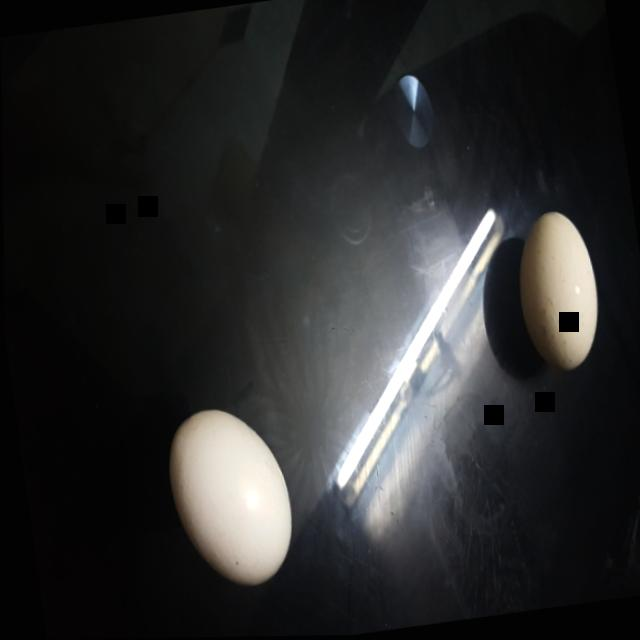eggs: (144, 378, 321, 610), (486, 203, 615, 381)
